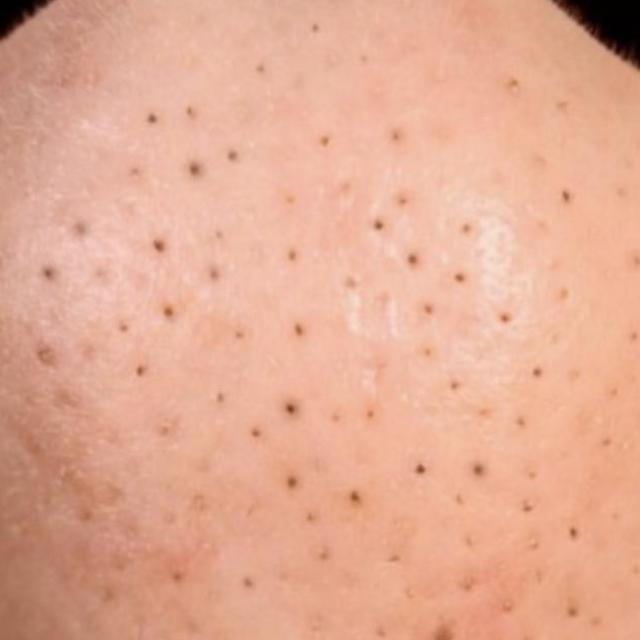blackhead: (12, 80, 606, 615)
